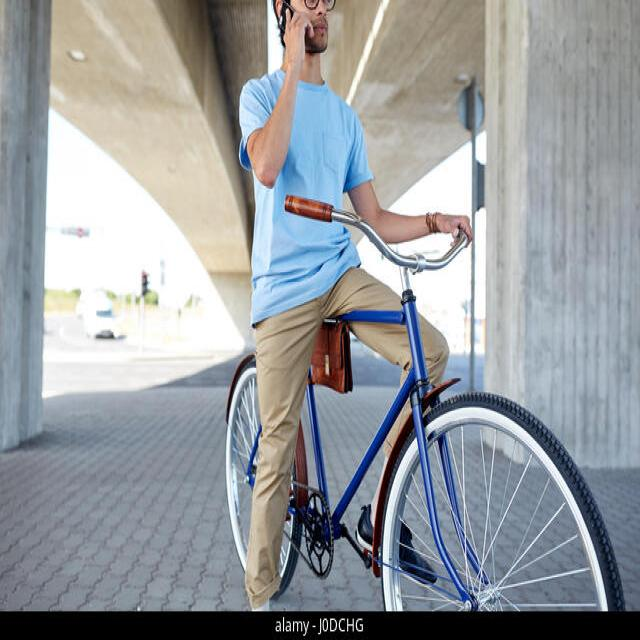Not Wearing Helmet: (248, 0, 404, 81)
Usage Of Phone While Riding: (224, 0, 402, 131)
